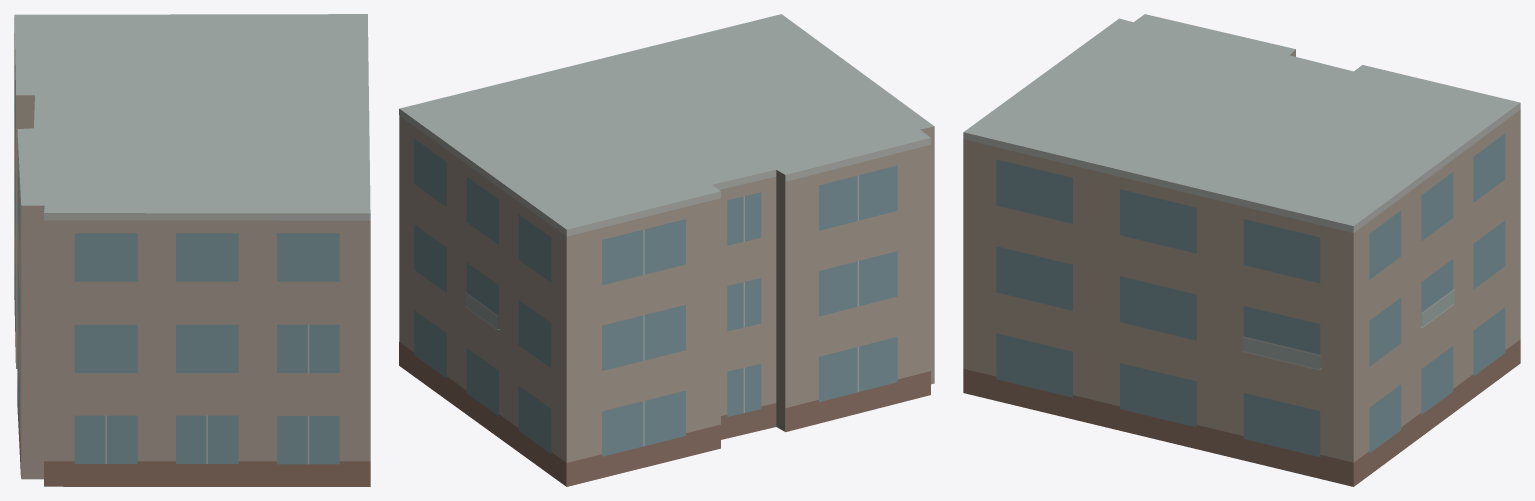
Rendered from survey-upis-32799373.glb.
3 views of the same model, side by side, from view 1: azimuth 30°, elevation 25°; view 2: azimuth 150°, elevation 25°; view 3: azimuth 270°, elevation 25° (orthographic). The views are drawn at different scales.
Parts seen in each view (by area): view 1: survey-upis-32799373.tmp; view 2: survey-upis-32799373.tmp; view 3: survey-upis-32799373.tmp.
Boxes of the visible parts, box(x1,y1,x2,y2) form: survey-upis-32799373.tmp: box(14, 14, 370, 486); survey-upis-32799373.tmp: box(399, 14, 934, 486); survey-upis-32799373.tmp: box(963, 14, 1520, 486).
Bounding box in the file's own units: 15.98 × 9.15 × 17.73.
